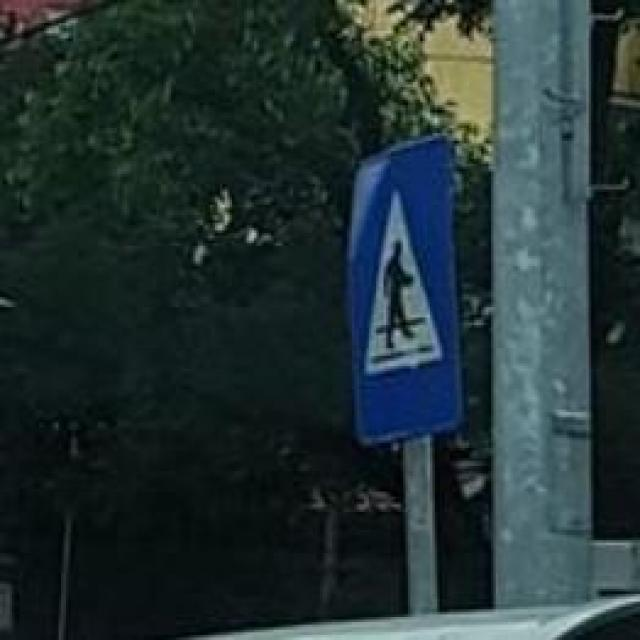traffic sign: (354, 138, 462, 435)
